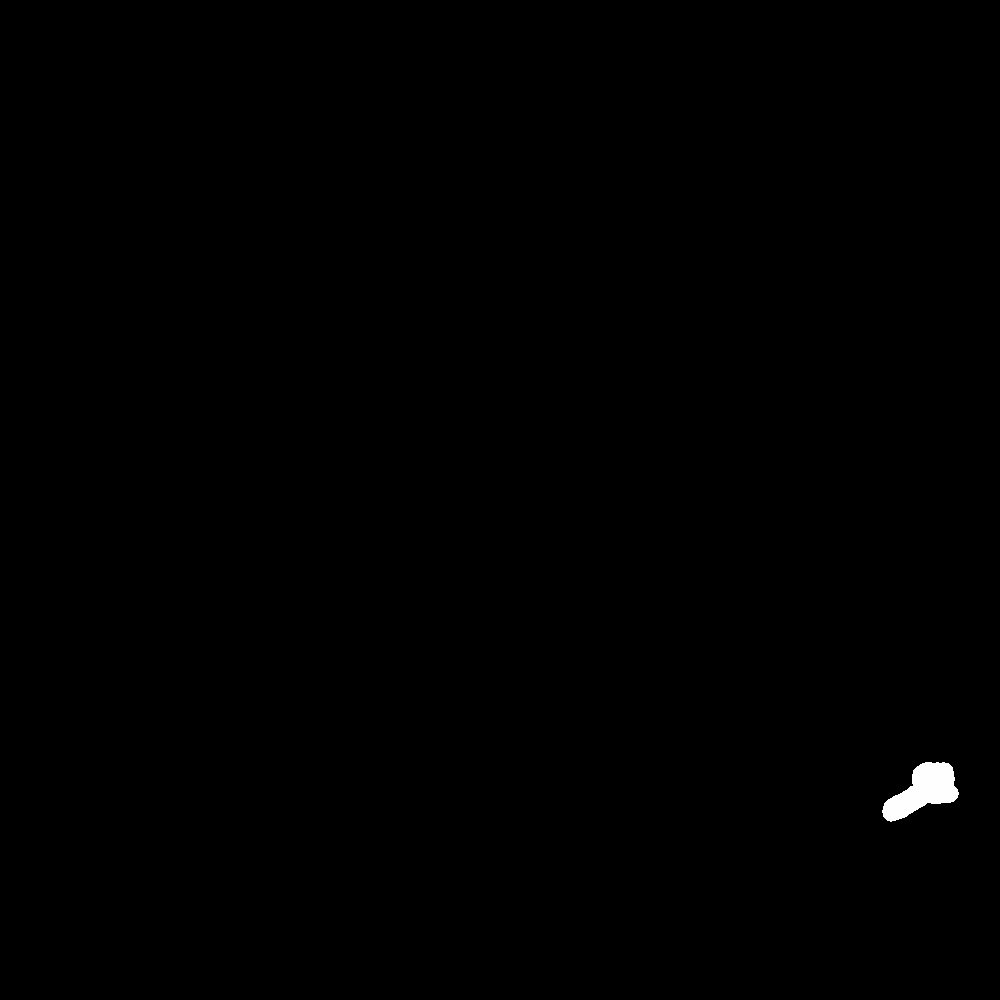illegal: (713, 444, 905, 634)
